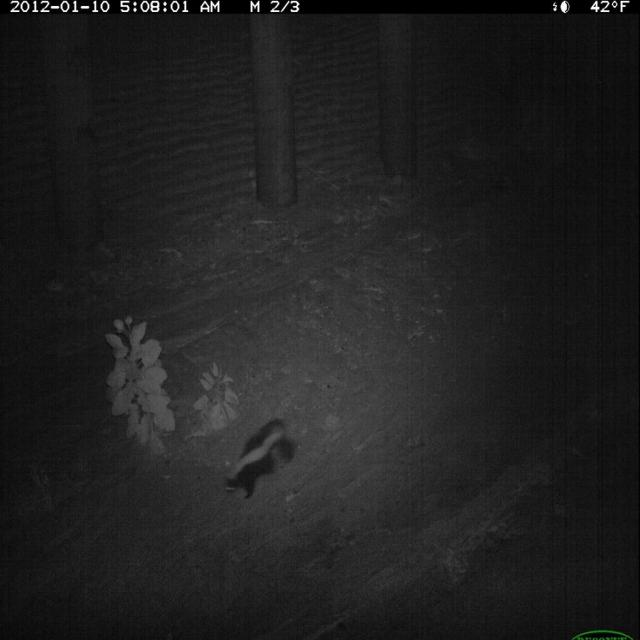skunk: (218, 413, 301, 506)
